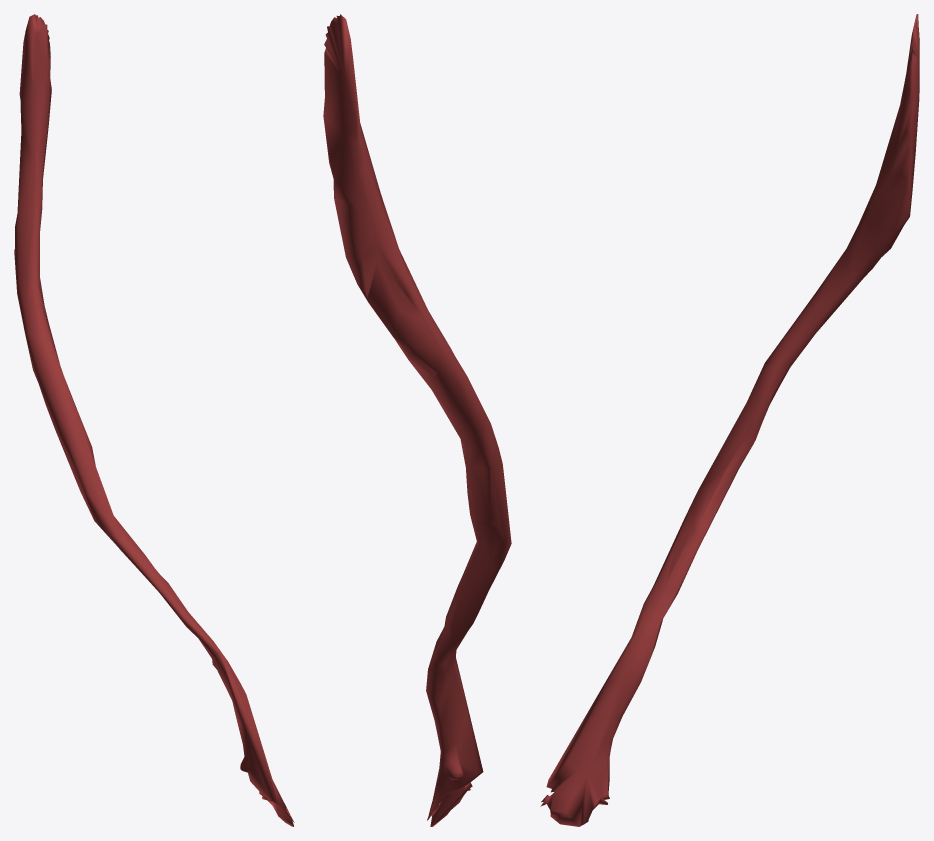
The model's file is fibularis-tertius-muscle-l.glb.
3 renders of one model, left to right at view 1: azimuth 30°, elevation 25°; view 2: azimuth 150°, elevation 25°; view 3: azimuth 270°, elevation 25°, orthographic. The views are drawn at different scales.
Parts seen in each view (by area): view 1: Fibularis tertius muscle.l; view 2: Fibularis tertius muscle.l; view 3: Fibularis tertius muscle.l.
Part boxes in pixels (x1,y1,x2,y2): Fibularis tertius muscle.l: [14, 14, 294, 826]; Fibularis tertius muscle.l: [323, 14, 511, 826]; Fibularis tertius muscle.l: [540, 14, 919, 826].
Bounding box in the file's own units: 0.0255 × 0.1229 × 0.0553.
